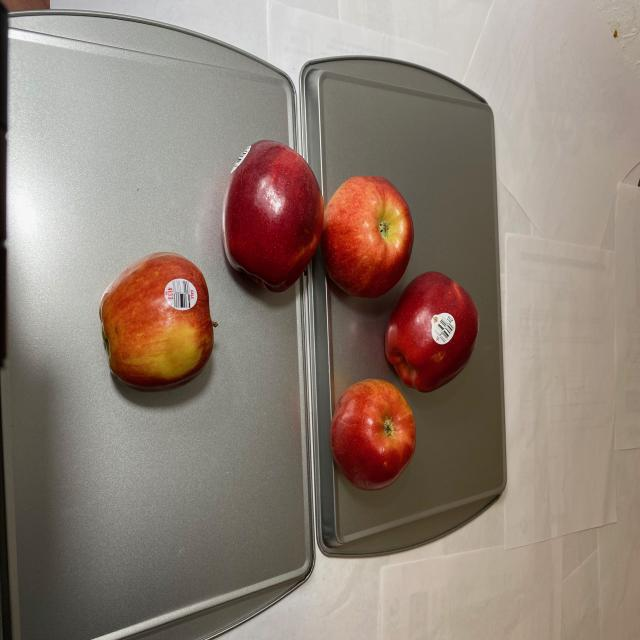apple: (223, 135, 479, 492), (95, 252, 219, 400)
